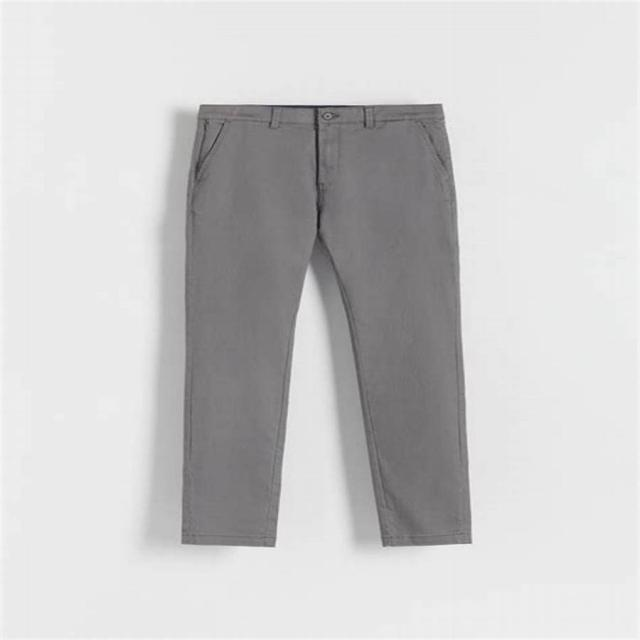long-pants: (181, 100, 476, 548)
